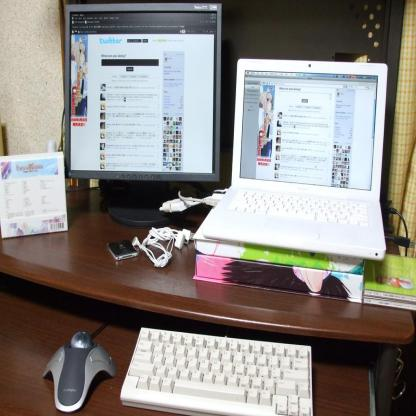board: (198, 46, 392, 292)
